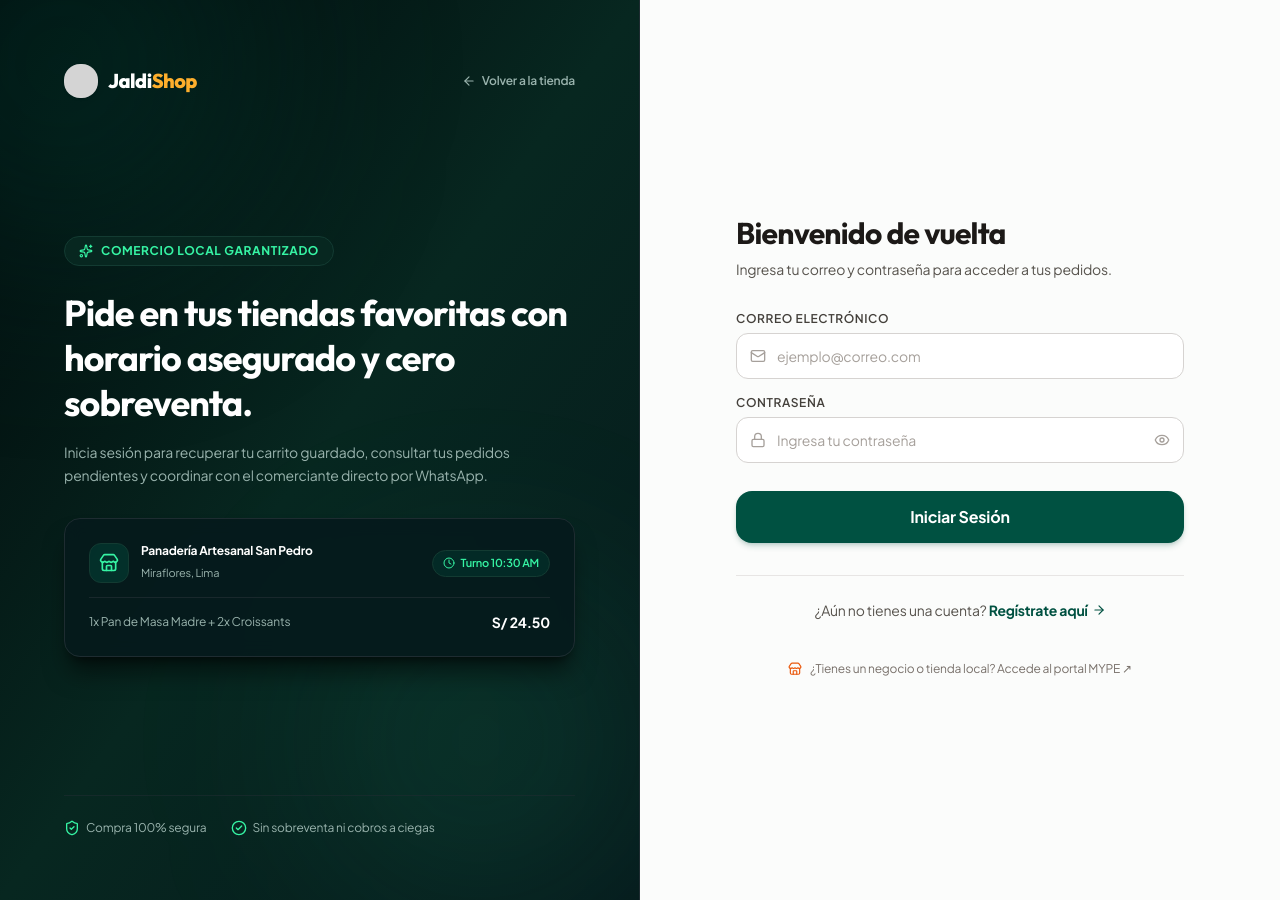
Scenario: LoginForm Component › displays error message when login fails with invalid credentials
Type "maria@example.com" into the field labelled "Correo electrónico" at coordinates (960, 356), box 736,332 -> 1184,378
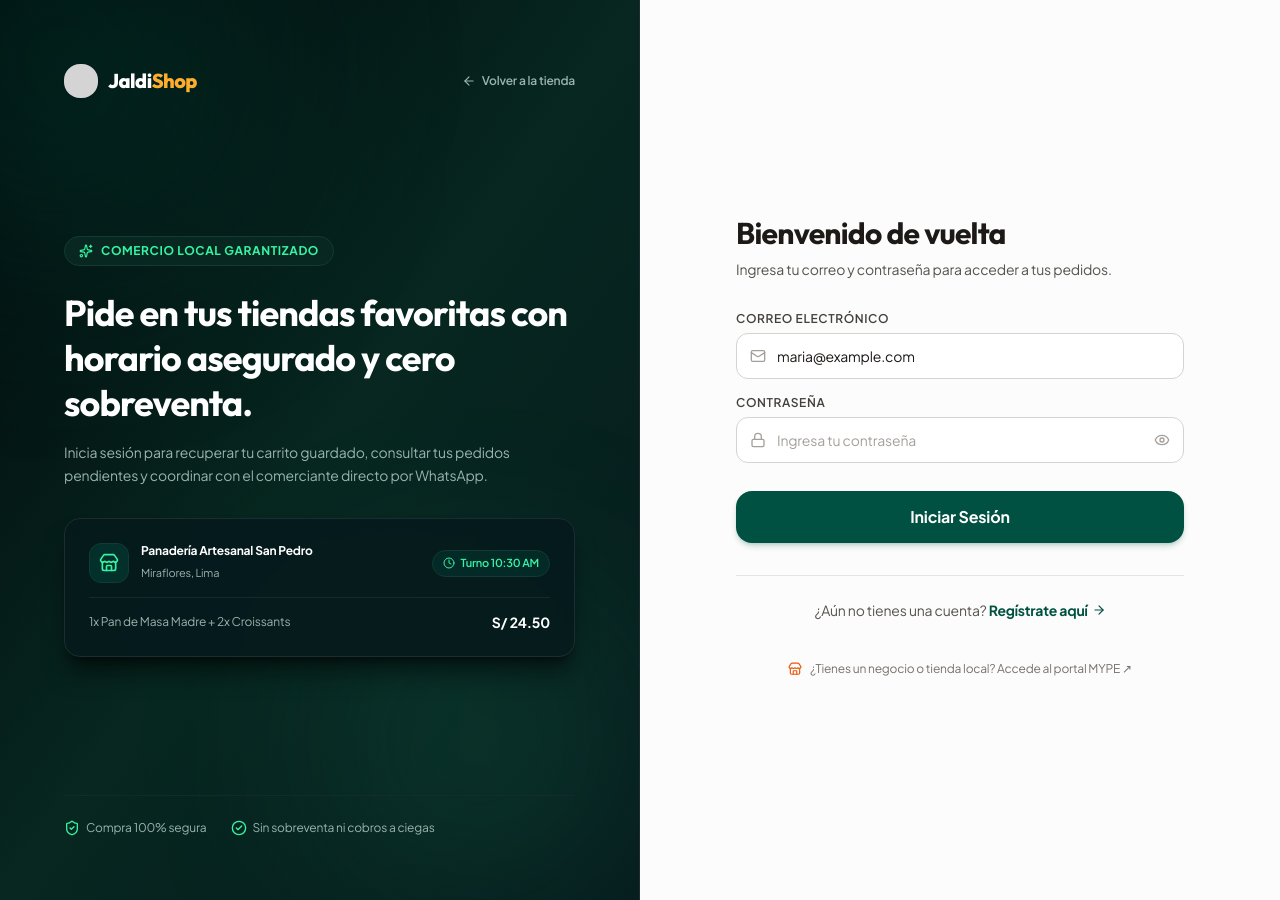
Type "erronea" into the password field labelled "Contraseña" at coordinates (960, 440), box 736,416 -> 1184,462
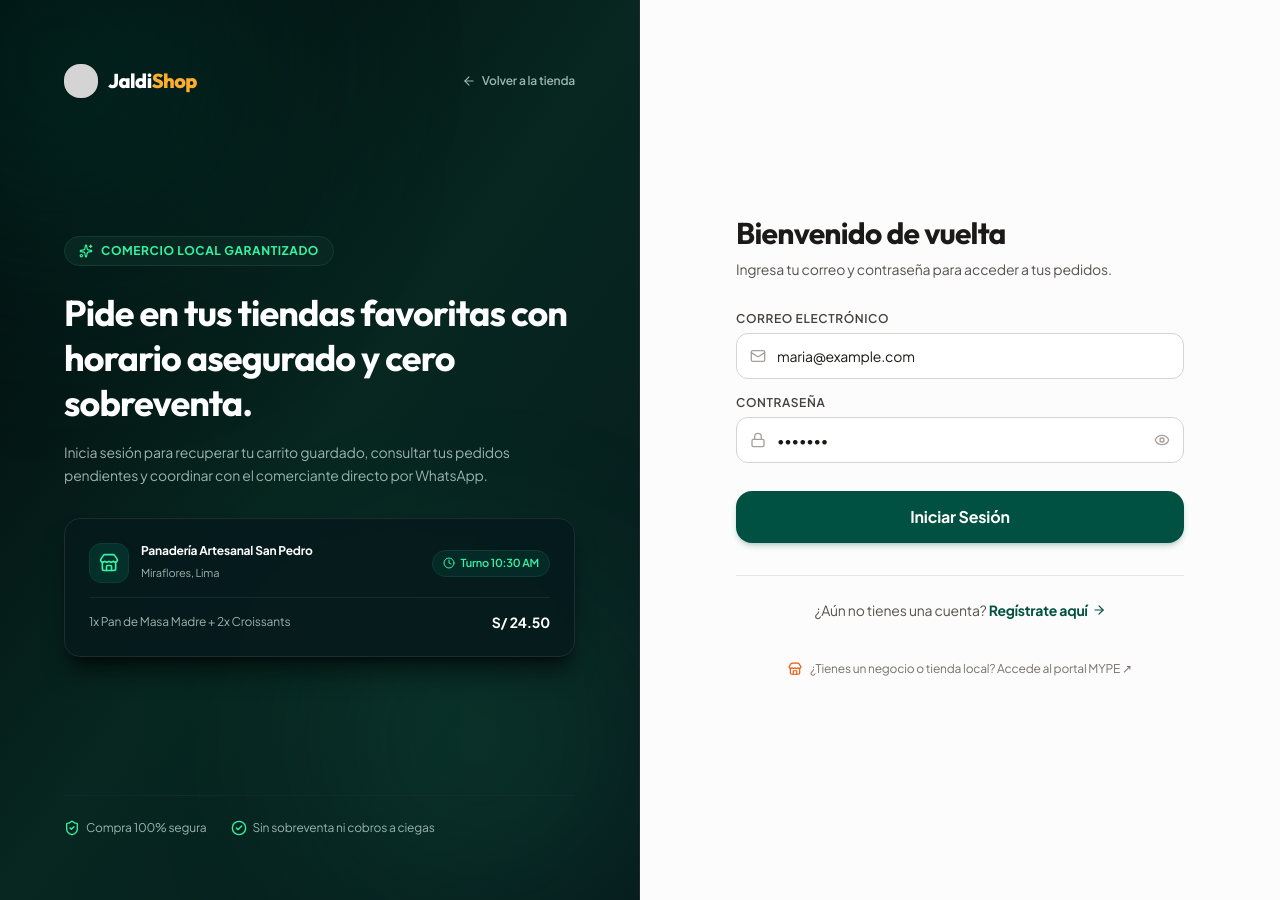
Click the button "Iniciar Sesión" at coordinates (960, 516), box 736,490 -> 1184,542
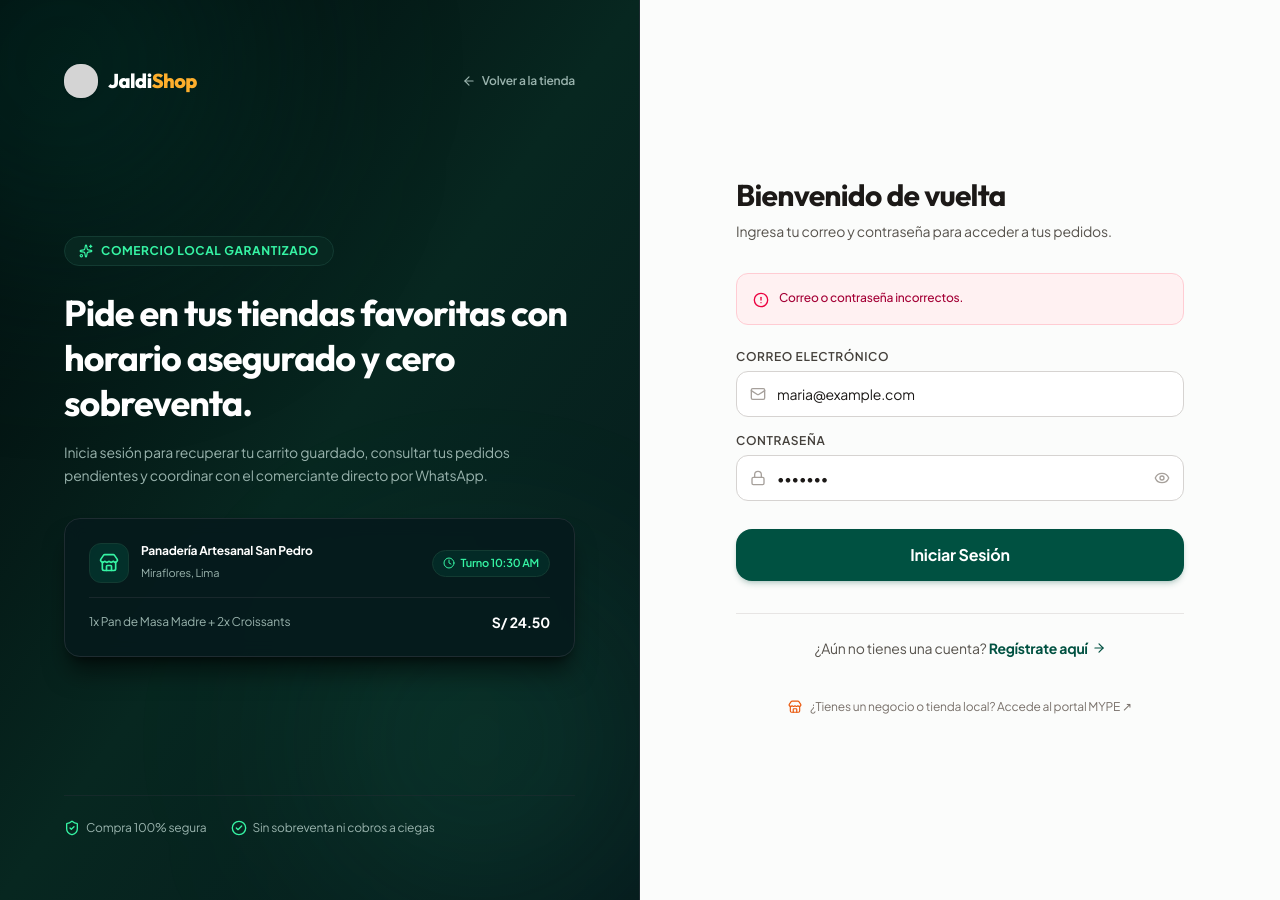
Now the text "Correo o contraseña incorrectos." is shown, box 779,290 -> 963,304
